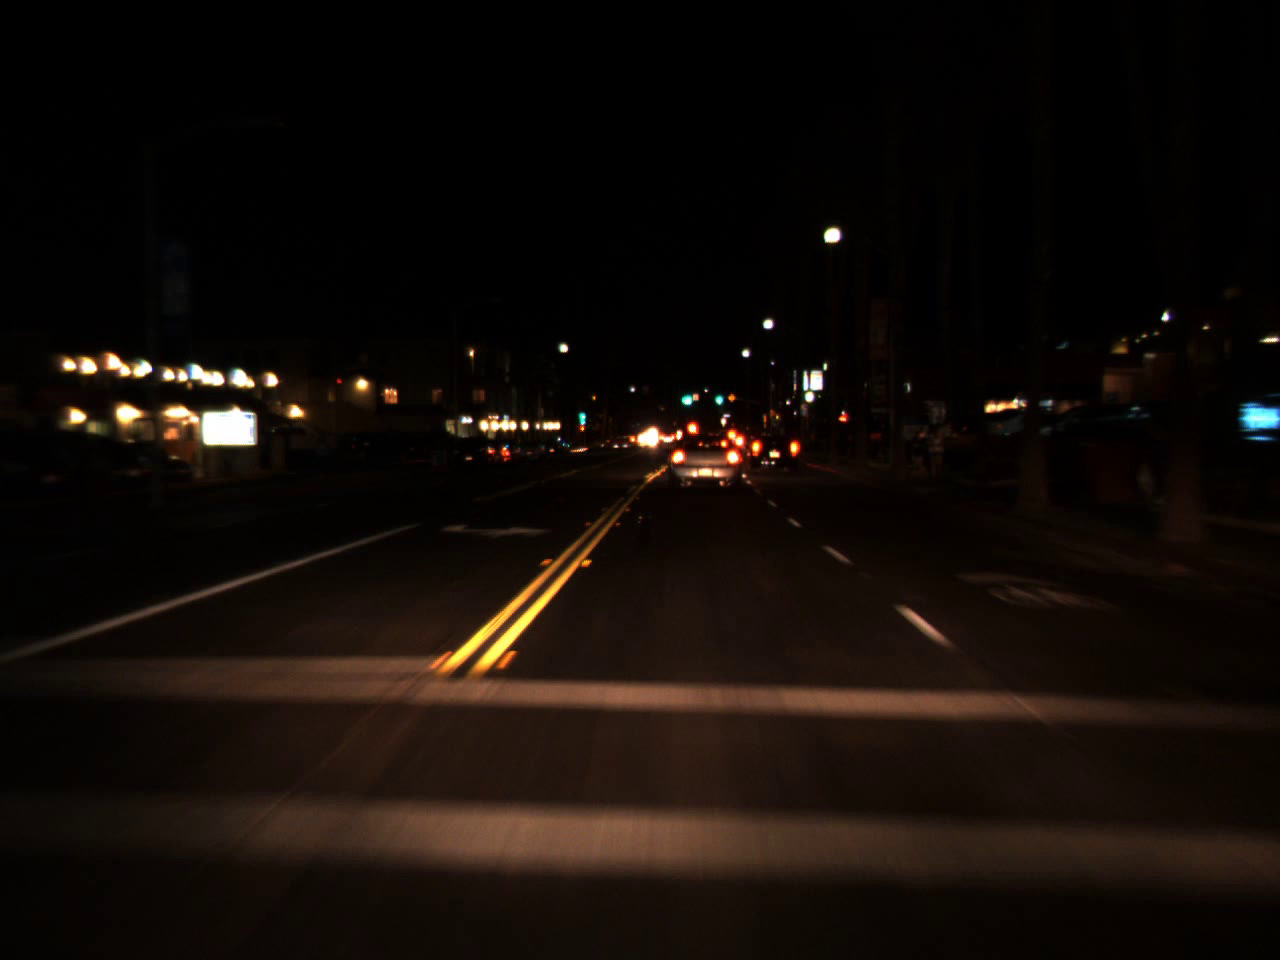go: (677, 384, 695, 408), (713, 386, 723, 407), (577, 402, 586, 426)
